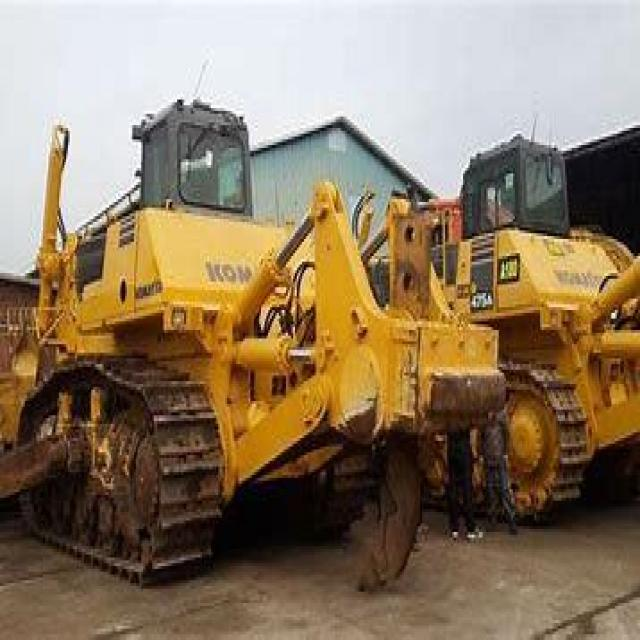Bulldozer: (14, 71, 517, 615)
